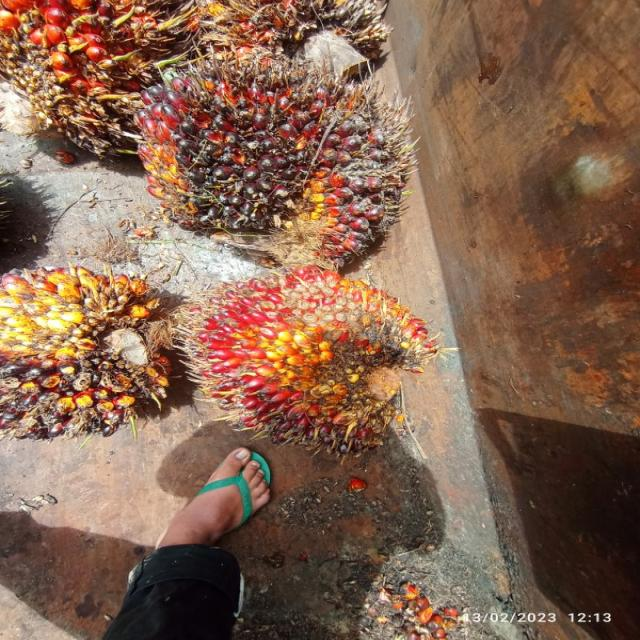fraksi 00: (0, 225, 192, 438)
fraksi 1: (135, 44, 400, 277)
fraksi 3: (175, 233, 438, 447)
